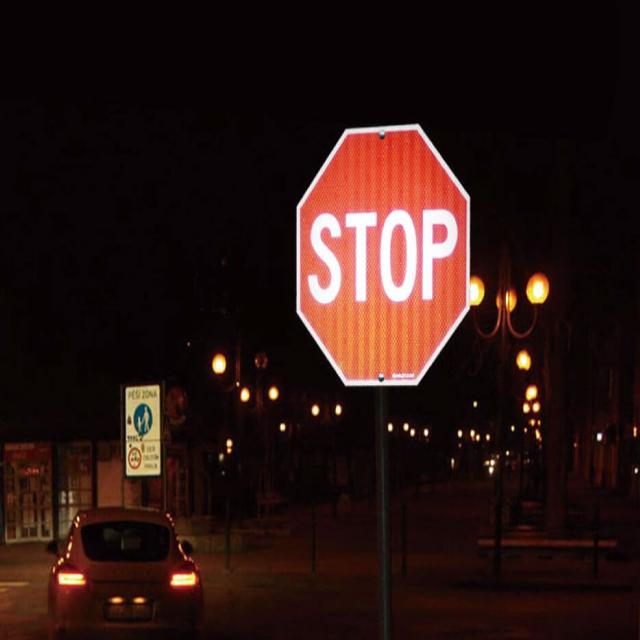STOP: (297, 125, 469, 384)
